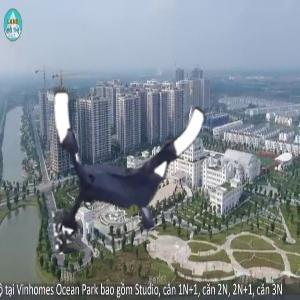drone: (47, 82, 213, 248)
